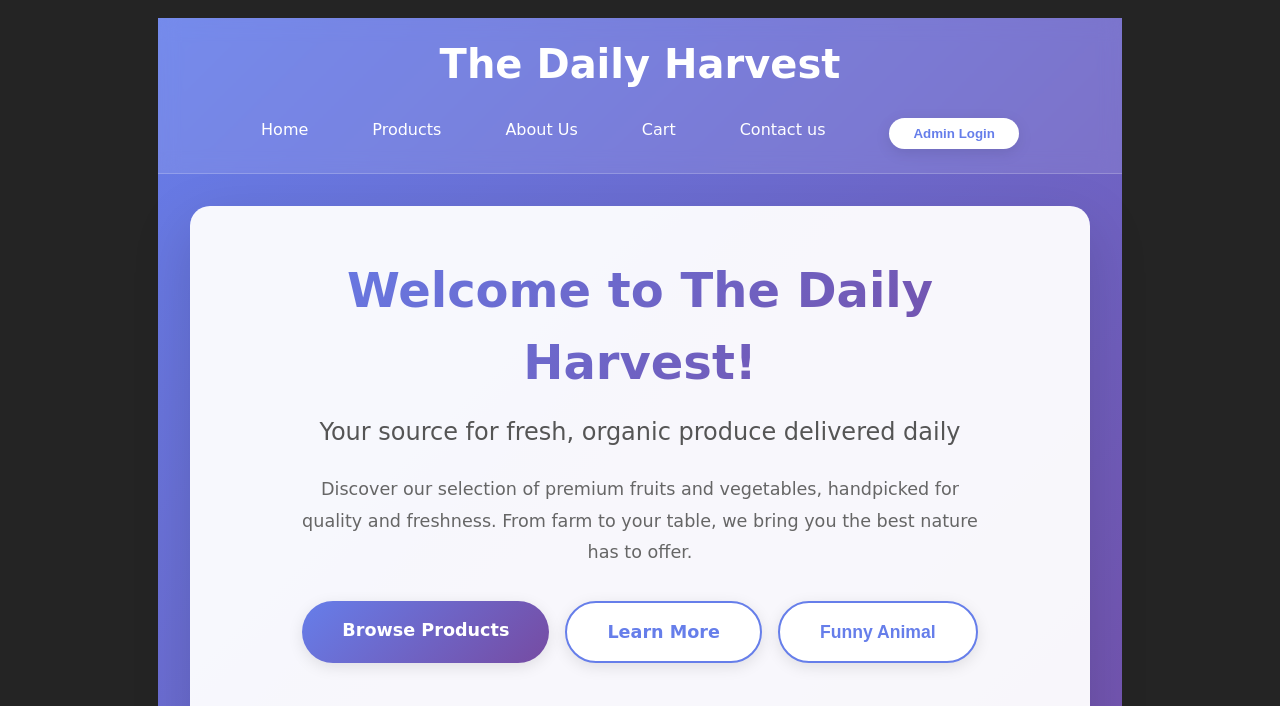
Test case: HomePage › should display error message when fetch fails
Click the button "Funny Animal". click: [878, 632]
box: [778,601,978,663]
(page scrolled)
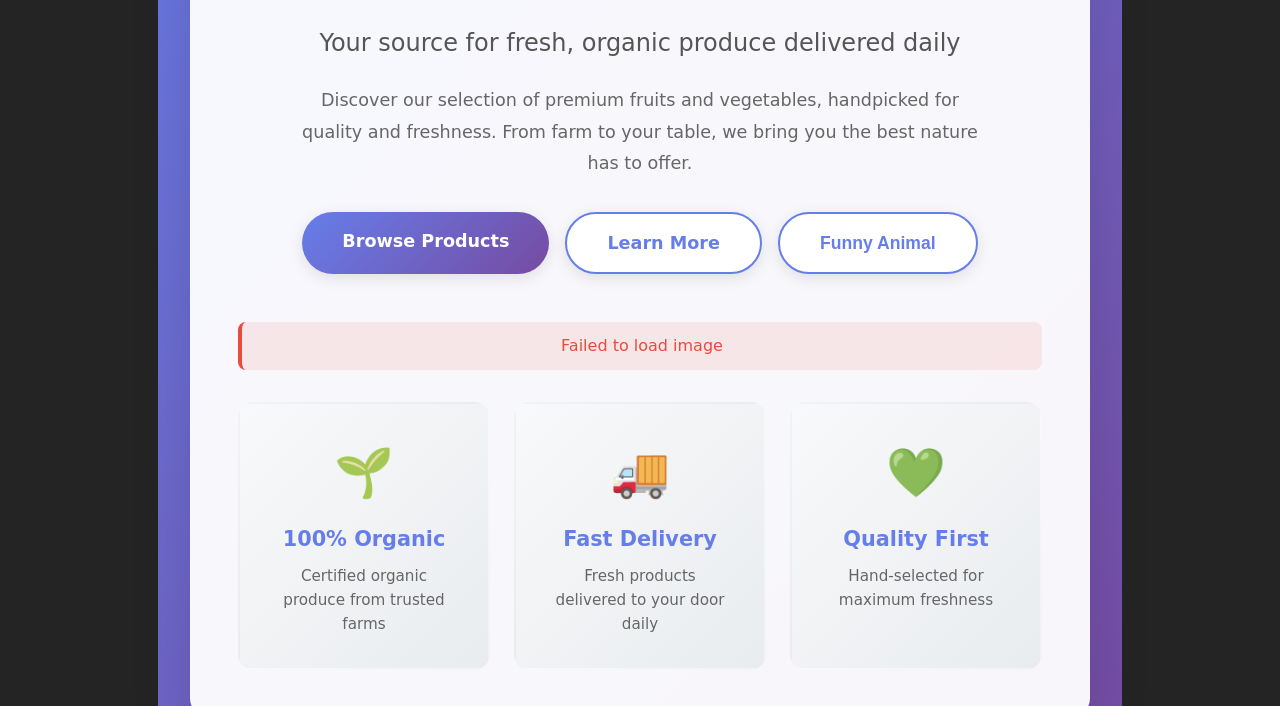
Result: the text "Failed to load image" is shown at [238,322,1042,370]
